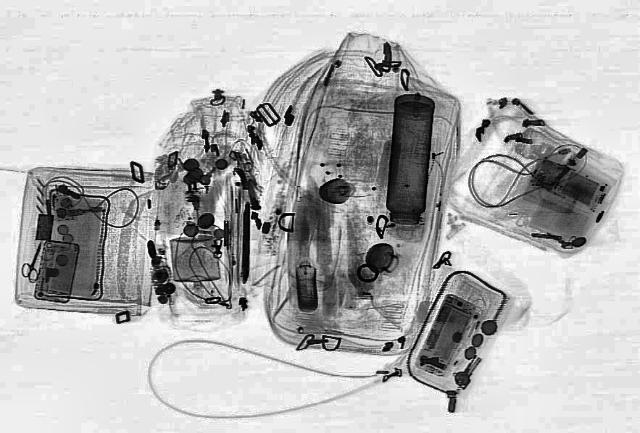Scissors: (18, 241, 52, 282)
